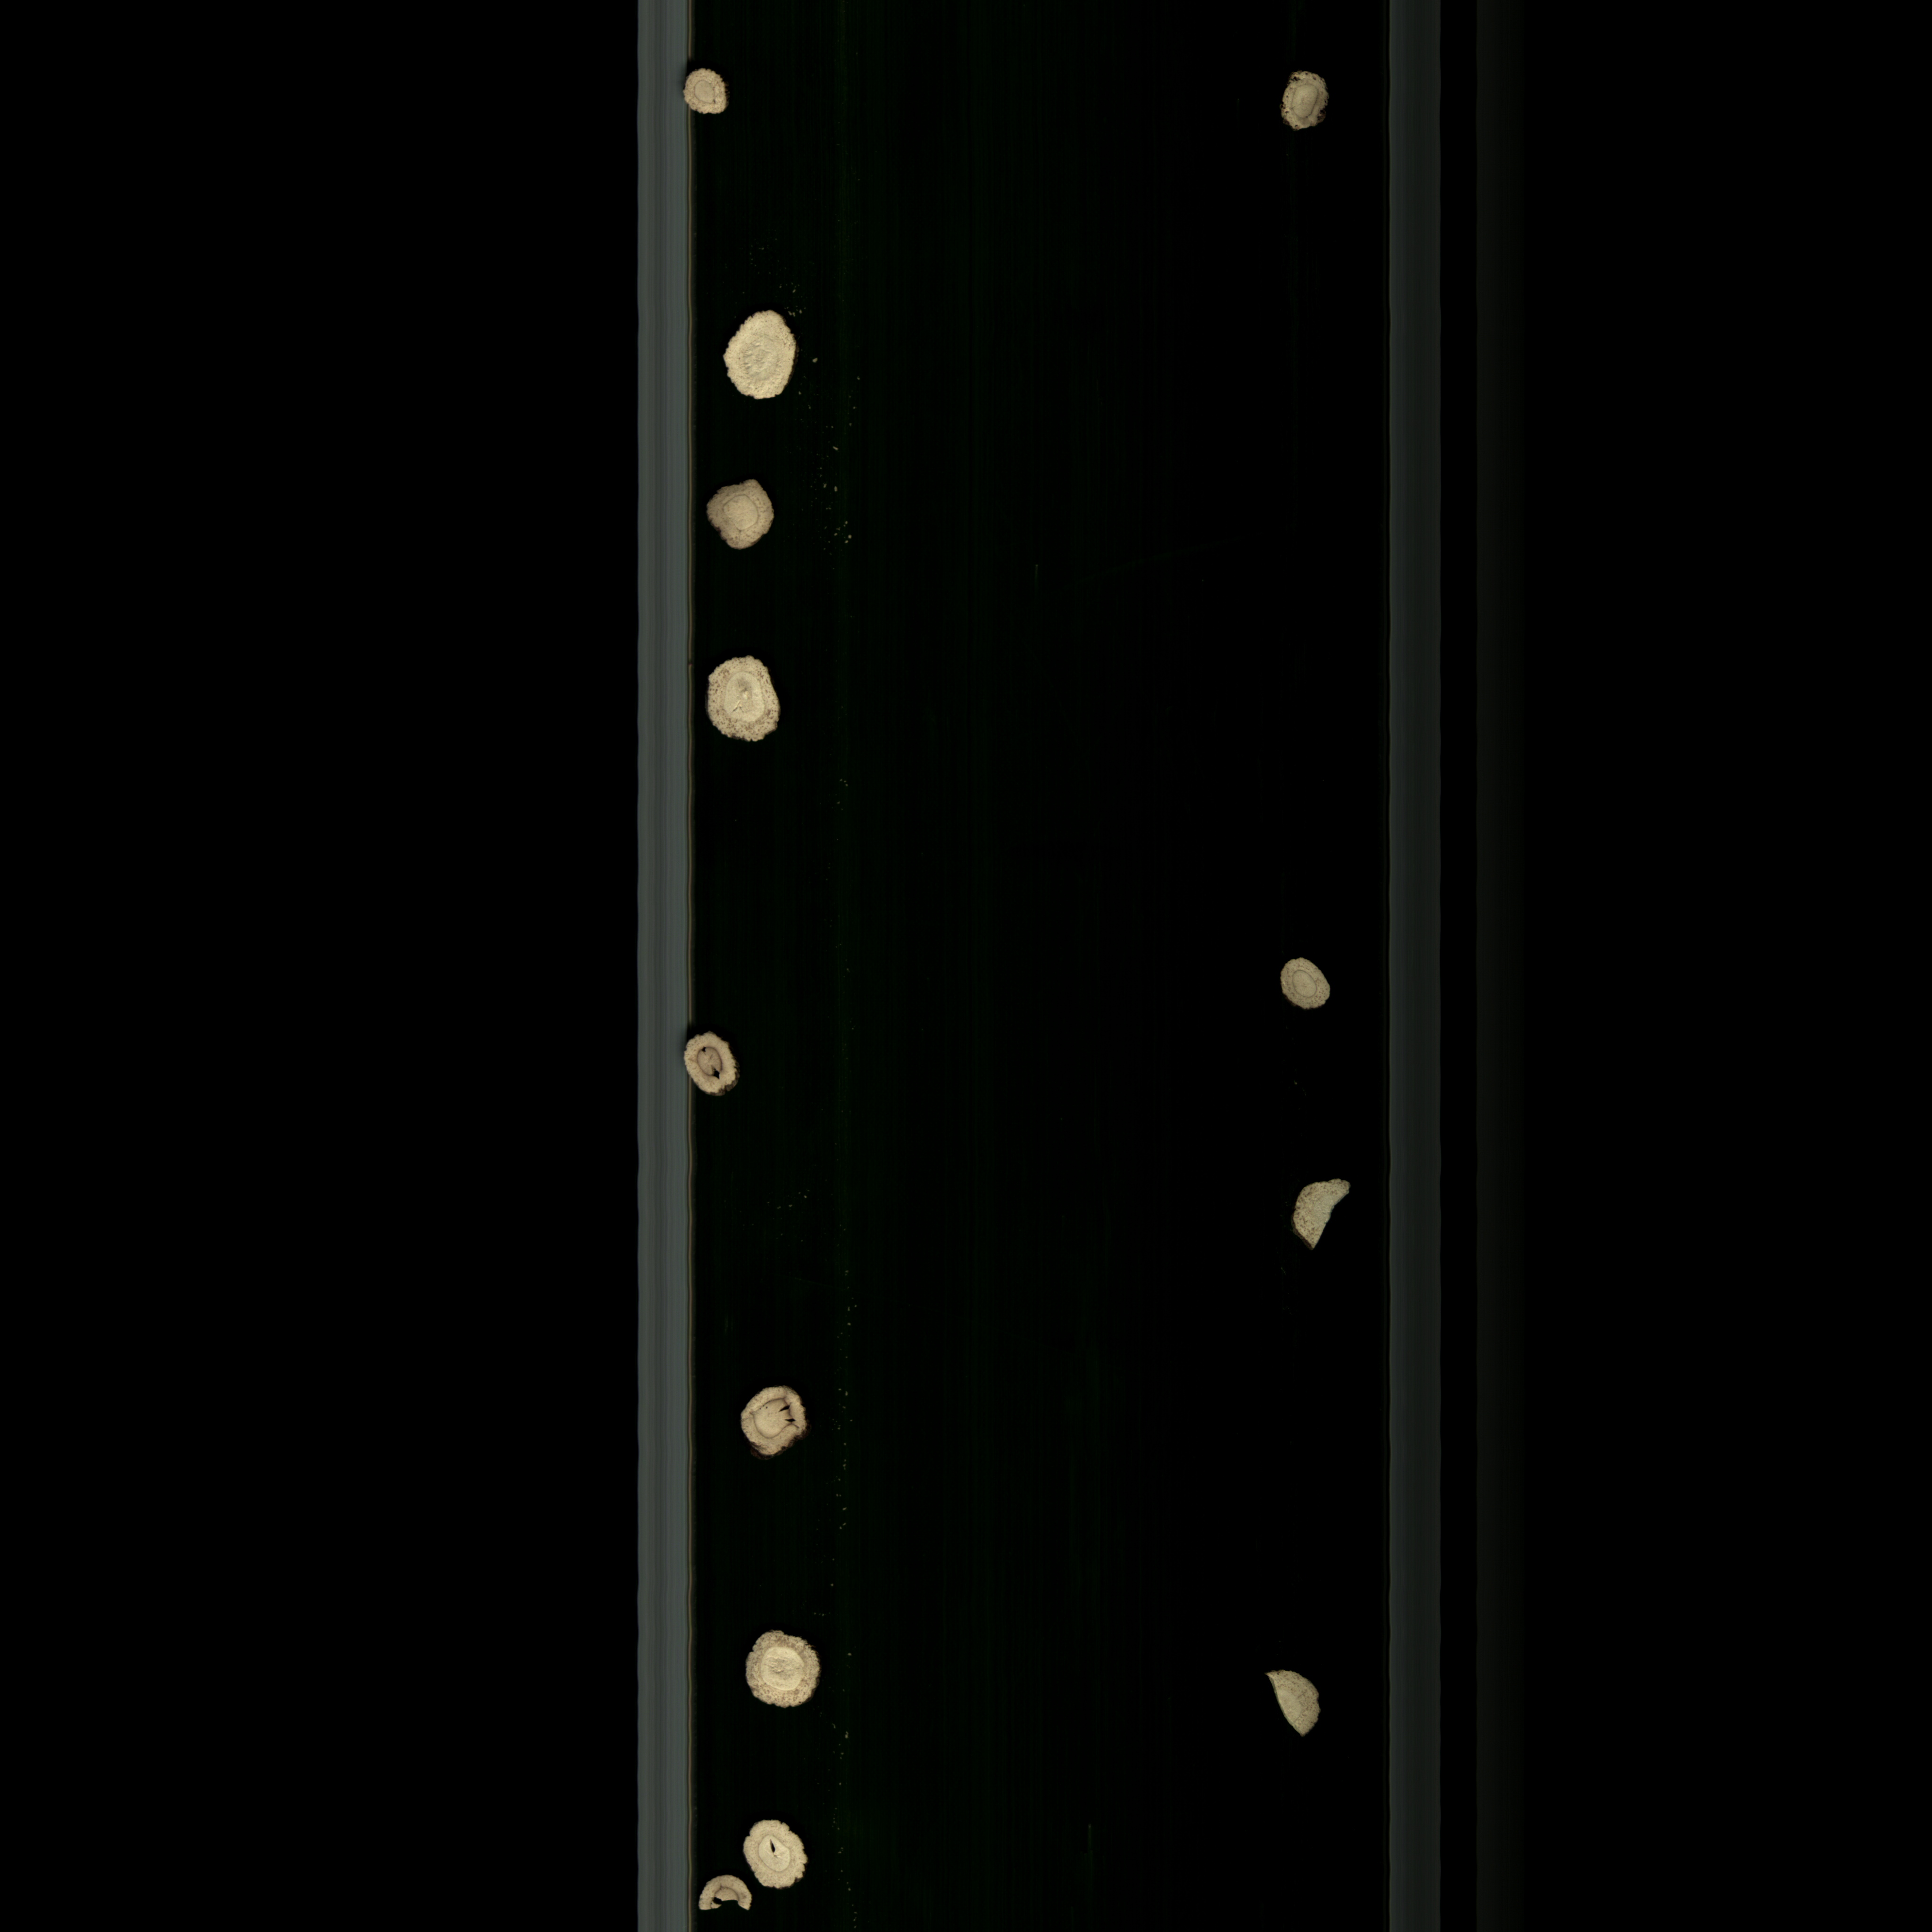debris: (1281, 1171, 1357, 1256), (1256, 1663, 1332, 1748), (692, 1872, 764, 1920)
distortion: (713, 306, 801, 403), (704, 476, 780, 556), (679, 62, 738, 126)
hole: (731, 1376, 826, 1468), (731, 1815, 816, 1902), (676, 1030, 755, 1100)
moldy: (1272, 62, 1338, 140)
